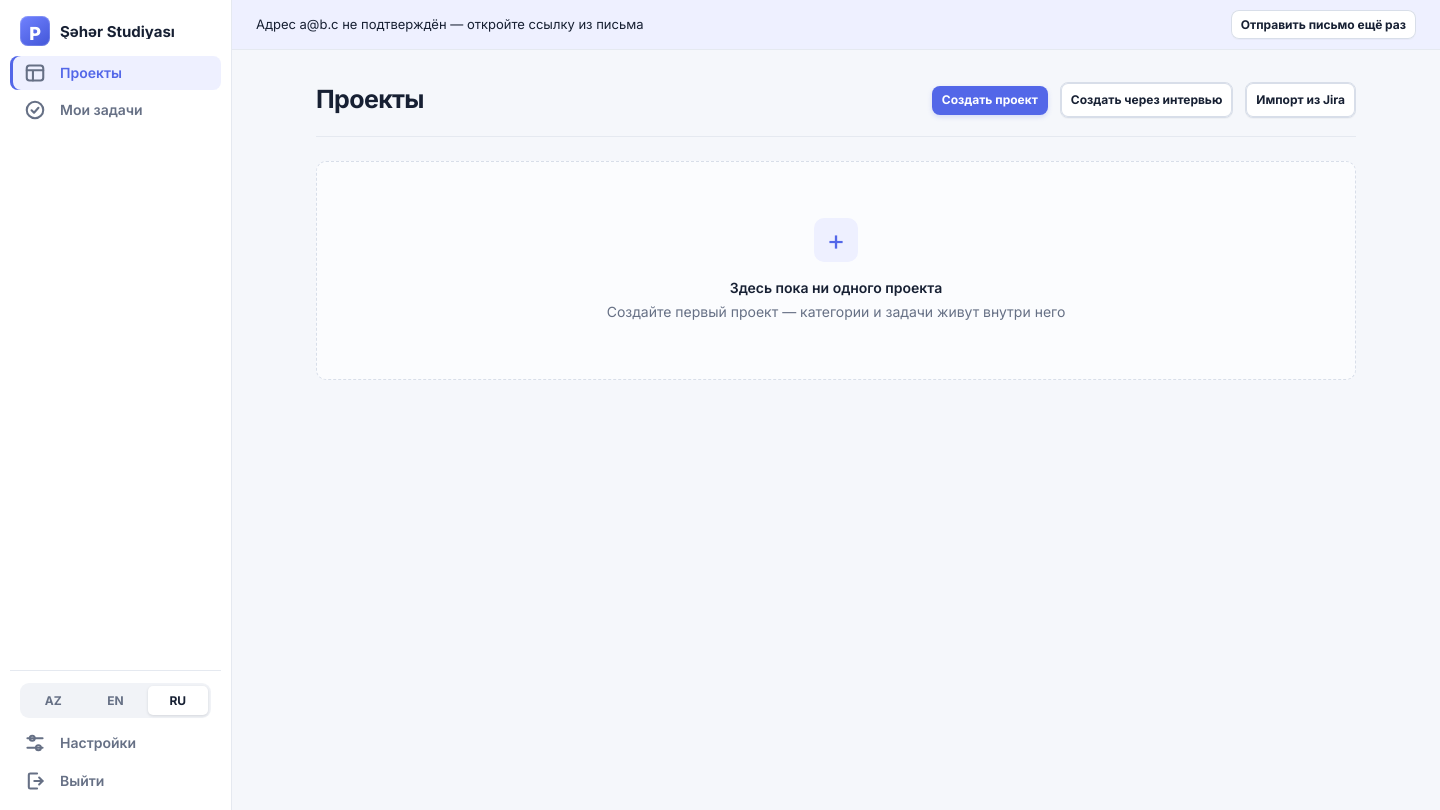
Test: полоска «адрес не подтверждён» › не обещает письмо, которое не ушло, и оставляет кнопку живой
Click the button "Отправить письмо ещё раз": point(1323, 24) [1231,10,1416,39]
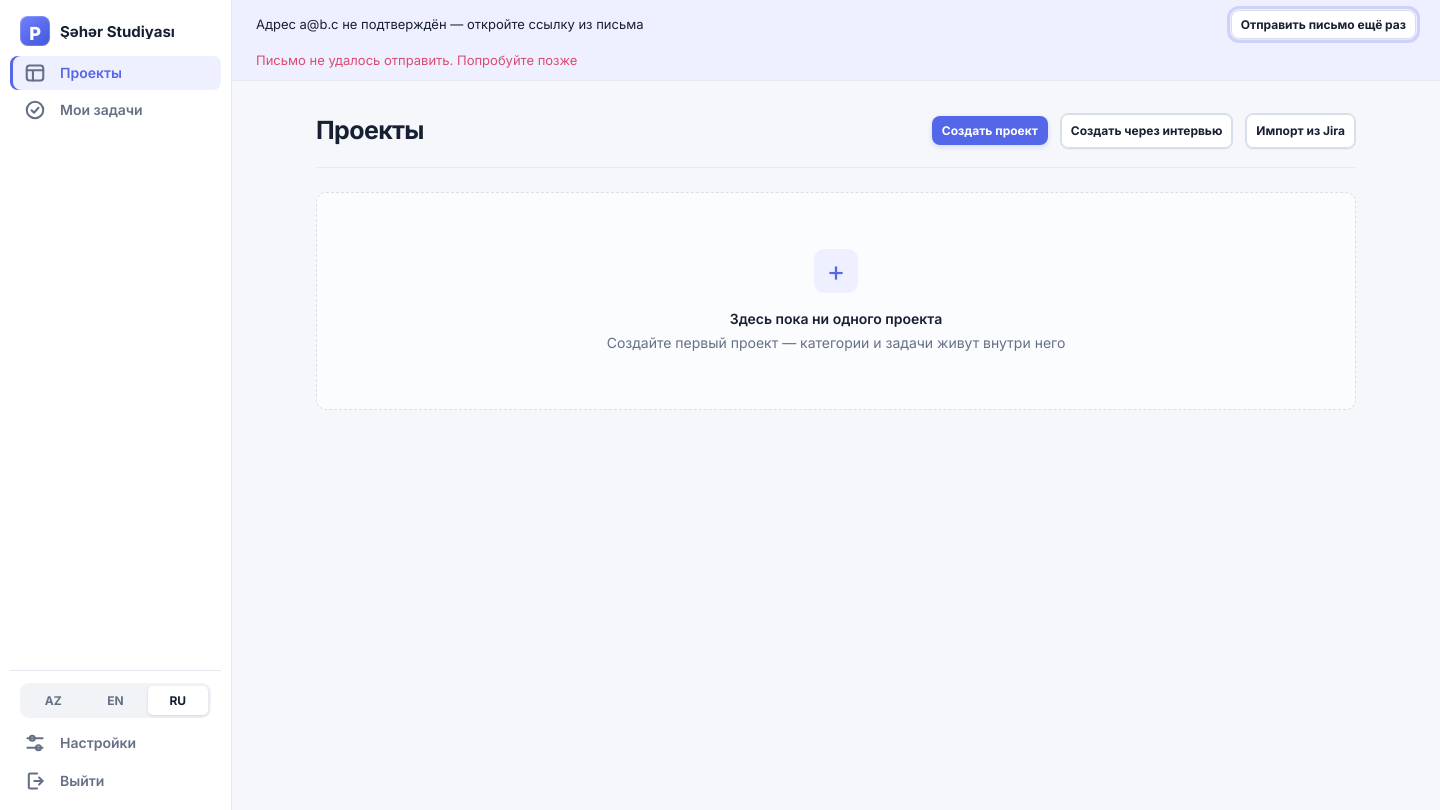
Result: the text "Письмо не удалось отправить. Попробуйте позже" is shown at [256,52,577,68]
